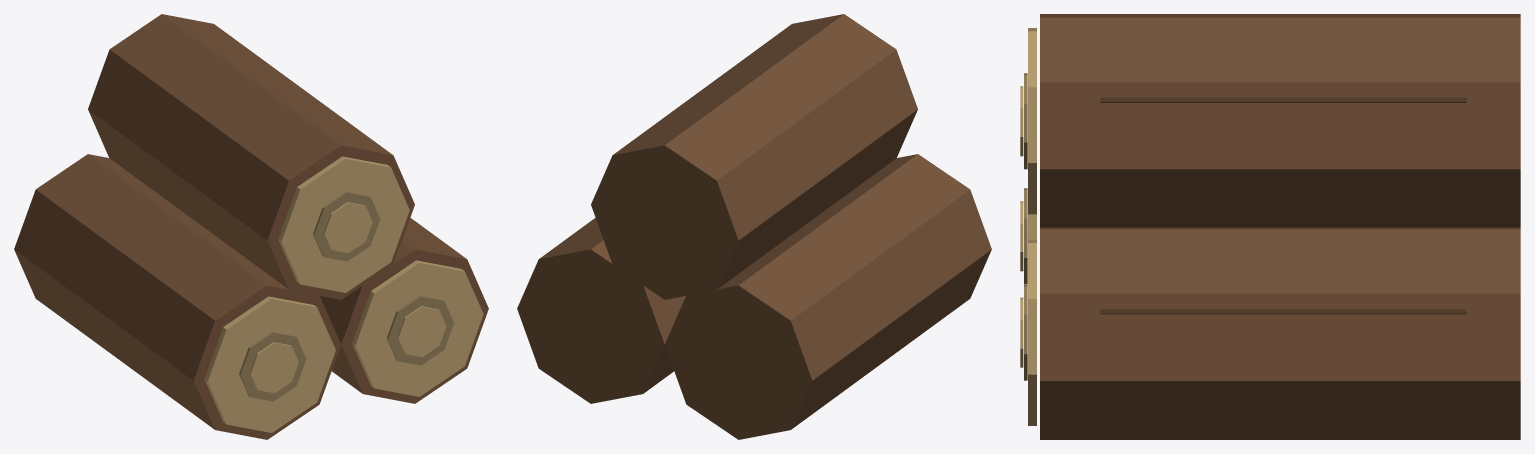
Rendered from normalLogs.glb.
3 renders of one model, left to right at view 1: azimuth 30°, elevation 25°; view 2: azimuth 150°, elevation 25°; view 3: azimuth 270°, elevation 25°, orthographic. The views are drawn at different scales.
Visible parts, largest first — view 1: normalLogs; view 2: normalLogs; view 3: normalLogs.
Boxes of the visible parts, left/top/right/bottom form: normalLogs: left=14, top=14, right=488, bottom=439; normalLogs: left=517, top=14, right=991, bottom=439; normalLogs: left=1020, top=14, right=1520, bottom=439.
Size of the model in its own units: 0.9124 by 0.8163 by 1.
